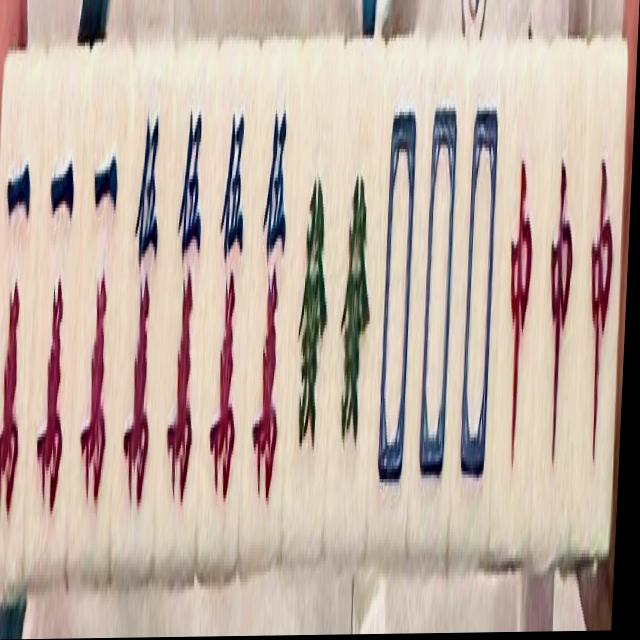bai: (448, 54, 508, 543), (368, 49, 427, 524), (409, 60, 467, 529)
fa: (326, 52, 386, 525), (284, 56, 343, 528)
m1: (24, 57, 86, 561), (68, 78, 131, 555), (0, 54, 44, 578)
m5: (196, 51, 261, 552), (153, 61, 215, 549), (112, 59, 173, 553), (242, 69, 303, 538)
zhong: (569, 55, 630, 547), (489, 62, 549, 540), (531, 55, 588, 536)
